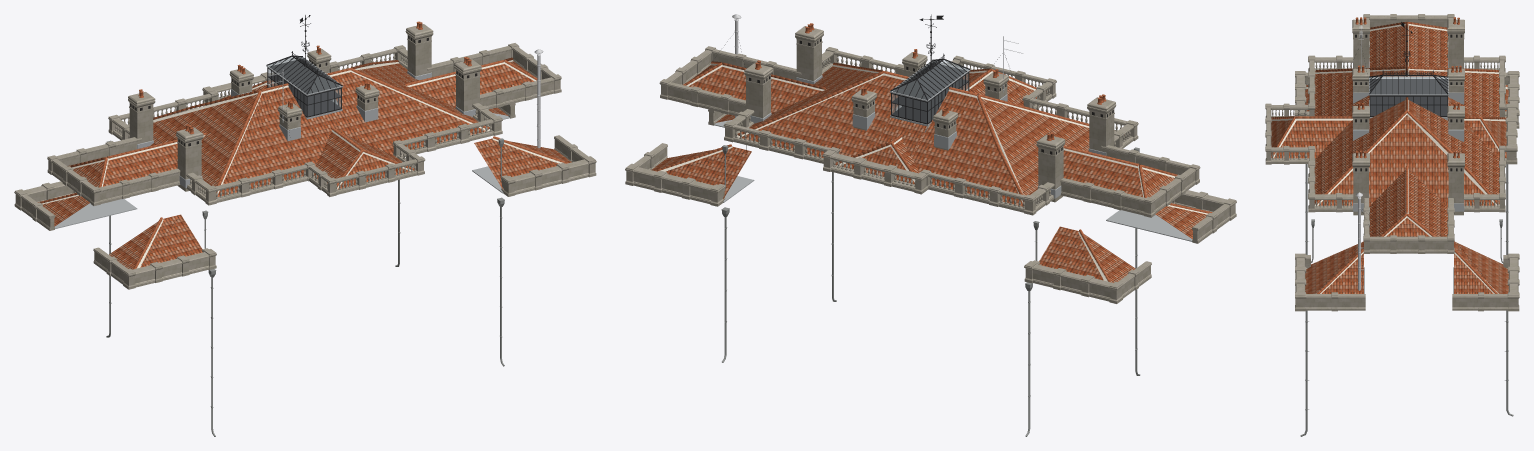
Rendered from toiture.glb.
3 renders of one model, left to right at view 1: azimuth 30°, elevation 25°; view 2: azimuth 150°, elevation 25°; view 3: azimuth 270°, elevation 25°, orthographic. The views are drawn at different scales.
Visible parts, largest first — view 1: toiture_tuiles, toiture_balustrade_socles_tablettes, toiture_parapets_pleins, toiture_souches, toiture_faitieres, toiture_souches_corniches, toiture_verriere_fer, toiture_mortier, toiture_verriere_vitrages, toiture_balustres, toiture_cheneaux_zinc, toiture_descentes (+1 smaller); view 2: toiture_tuiles, toiture_balustrade_socles_tablettes, toiture_parapets_pleins, toiture_souches, toiture_faitieres, toiture_souches_corniches, toiture_verriere_fer, toiture_mortier, toiture_verriere_vitrages, toiture_cheneaux_zinc, toiture_descentes, toiture_balustres (+1 smaller); view 3: toiture_tuiles, toiture_balustrade_socles_tablettes, toiture_faitieres, toiture_verriere_fer, toiture_souches_corniches, toiture_souches, toiture_verriere_vitrages, toiture_parapets_pleins, toiture_mortier, toiture_descentes, toiture_solins, toiture_balustres (+3 smaller).
Part boxes in pixels (box(x1,y1,x2,y2)): toiture_tuiles: box(42, 61, 571, 269); toiture_balustrade_socles_tablettes: box(14, 43, 596, 289); toiture_parapets_pleins: box(21, 50, 588, 283); toiture_souches: box(129, 40, 479, 191); toiture_faitieres: box(37, 57, 568, 268); toiture_souches_corniches: box(128, 24, 481, 148); toiture_verriere_fer: box(267, 51, 342, 117); toiture_mortier: box(41, 60, 565, 268); toiture_verriere_vitrages: box(268, 57, 340, 115); toiture_balustres: box(115, 53, 492, 198); toiture_cheneaux_zinc: box(55, 57, 509, 228); toiture_descentes: box(106, 138, 504, 436); toiture_tuiles: box(651, 65, 1206, 282); toiture_balustrade_socles_tablettes: box(625, 46, 1236, 303); toiture_parapets_pleins: box(633, 54, 1229, 297); toiture_souches: box(746, 43, 1114, 202); toiture_faitieres: box(654, 61, 1212, 282); toiture_souches_corniches: box(744, 26, 1116, 157); toiture_verriere_fer: box(890, 53, 969, 124); toiture_mortier: box(658, 63, 1207, 281); toiture_verriere_vitrages: box(892, 60, 968, 122); toiture_cheneaux_zinc: box(714, 60, 1192, 241); toiture_descentes: box(721, 145, 1140, 436); toiture_balustres: box(734, 55, 1130, 208); toiture_tuiles: box(1271, 25, 1508, 293); toiture_balustrade_socles_tablettes: box(1265, 14, 1519, 311); toiture_faitieres: box(1271, 21, 1507, 293); toiture_verriere_fer: box(1369, 70, 1448, 116); toiture_souches_corniches: box(1352, 19, 1464, 172); toiture_souches: box(1353, 39, 1463, 215); toiture_verriere_vitrages: box(1369, 76, 1447, 115); toiture_parapets_pleins: box(1305, 20, 1508, 306); toiture_mortier: box(1271, 23, 1507, 293); toiture_descentes: box(1300, 164, 1513, 436); toiture_solins: box(1353, 62, 1464, 211); toiture_balustres: box(1272, 62, 1498, 207).
Size of the model in its own units: 32.91 by 23.41 by 15.72.
12 materials, 4 textured.
